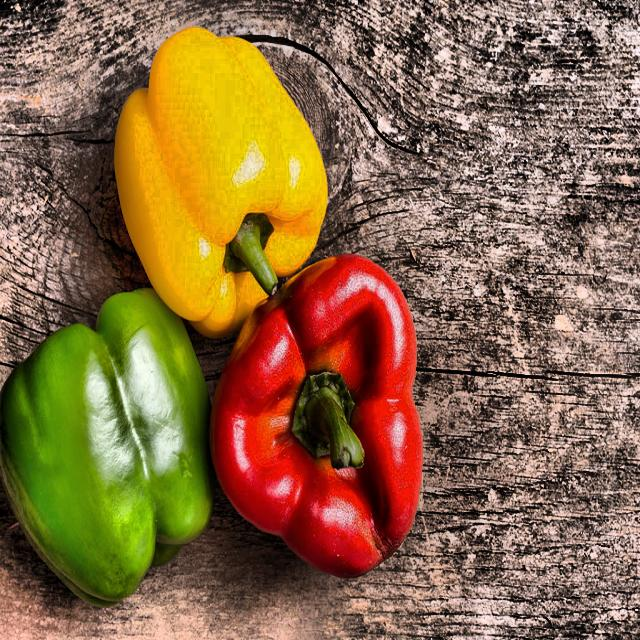capsicum: (105, 23, 308, 296)
green pepper: (16, 318, 200, 614)
red capsicum: (233, 309, 453, 588)
